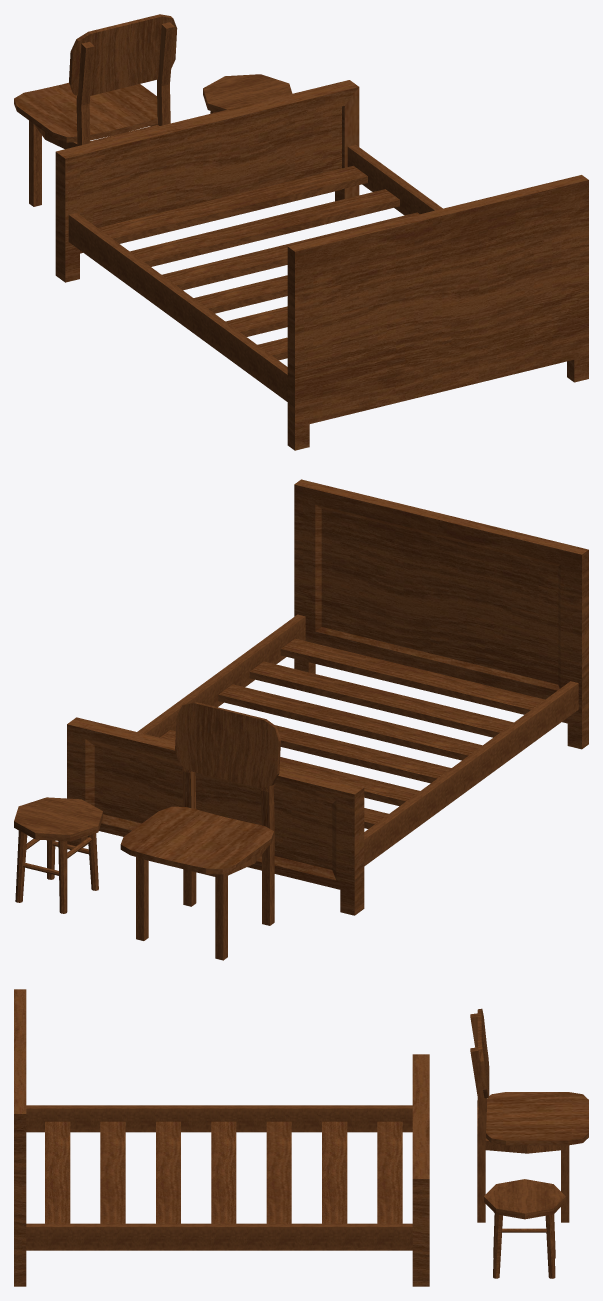
The model's file is oldwest_11.obj.
3 views of the same model, one above another, from view 1: azimuth 30°, elevation 25°; view 2: azimuth 150°, elevation 25°; view 3: azimuth 270°, elevation 25° (orthographic). The views are drawn at different scales.
Parts seen in each view (by area): view 1: Cube.203, Cube.195, Cylinder.016; view 2: Cube.203, Cube.195, Cylinder.016; view 3: Cube.203, Cube.195, Cylinder.016.
Part boxes in pixels (x1,y1,x2,y2): Cube.203: (55, 80, 588, 450); Cube.195: (14, 14, 177, 206); Cylinder.016: (203, 74, 292, 113); Cube.203: (67, 479, 588, 915); Cube.195: (120, 702, 280, 960); Cylinder.016: (14, 797, 102, 913); Cube.203: (14, 989, 429, 1286); Cube.195: (470, 1008, 588, 1222); Cylinder.016: (484, 1179, 565, 1278).
Size of the model in its own units: 1.15 by 0.7706 by 2.24.
Materials: 1 (1 with a texture image).
